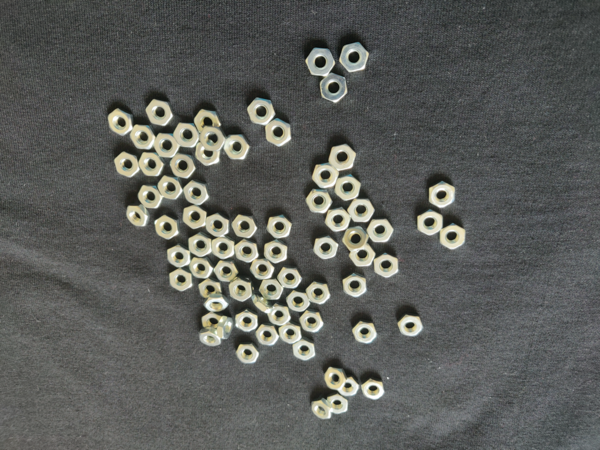nut: (340, 42, 370, 73), (306, 48, 335, 77), (321, 73, 348, 103), (146, 99, 174, 127), (248, 98, 276, 126), (312, 162, 340, 189), (329, 144, 357, 171), (194, 109, 222, 136), (266, 119, 292, 147), (430, 182, 456, 209), (342, 226, 369, 252), (335, 175, 362, 201), (170, 153, 197, 179), (114, 152, 141, 178), (153, 134, 181, 159), (223, 135, 251, 160), (440, 224, 466, 250), (418, 210, 444, 236), (325, 207, 351, 233), (306, 189, 333, 214), (108, 109, 133, 136), (195, 140, 220, 167), (173, 123, 200, 148), (199, 127, 227, 151), (155, 215, 181, 240), (130, 125, 156, 150), (184, 181, 211, 205), (348, 200, 376, 223), (374, 254, 399, 279), (264, 239, 289, 264), (267, 215, 293, 239), (232, 215, 258, 239), (139, 152, 165, 176), (349, 244, 376, 267), (343, 273, 367, 298), (306, 282, 331, 306), (314, 236, 339, 260), (158, 176, 183, 200), (138, 185, 163, 209), (277, 267, 303, 290), (168, 243, 191, 269), (398, 315, 425, 337), (367, 220, 394, 242), (229, 278, 253, 302), (235, 239, 259, 263), (211, 236, 235, 260), (206, 213, 230, 237), (183, 205, 207, 229), (293, 337, 316, 362), (189, 233, 212, 258), (126, 204, 151, 227), (214, 261, 240, 283), (300, 310, 324, 333), (170, 268, 193, 292), (352, 322, 377, 344), (190, 257, 213, 280), (362, 379, 386, 401), (256, 324, 280, 346), (268, 304, 292, 326), (236, 309, 258, 333), (286, 291, 310, 313), (250, 259, 275, 280), (325, 368, 347, 391), (279, 323, 303, 344), (235, 343, 259, 364), (259, 280, 284, 300), (199, 278, 223, 298), (204, 294, 229, 313), (327, 394, 349, 415), (312, 398, 332, 421), (199, 327, 222, 347), (338, 377, 359, 397), (252, 294, 273, 314), (202, 312, 223, 330), (218, 316, 233, 340)
